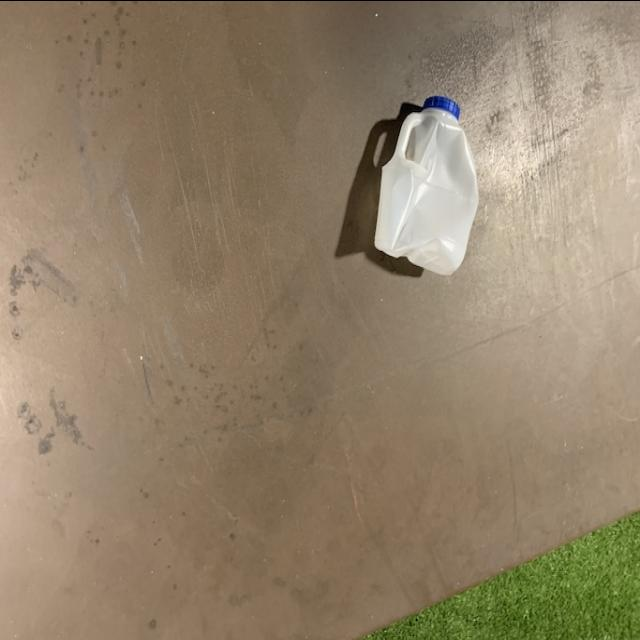HDPEM: (373, 90, 481, 278)
